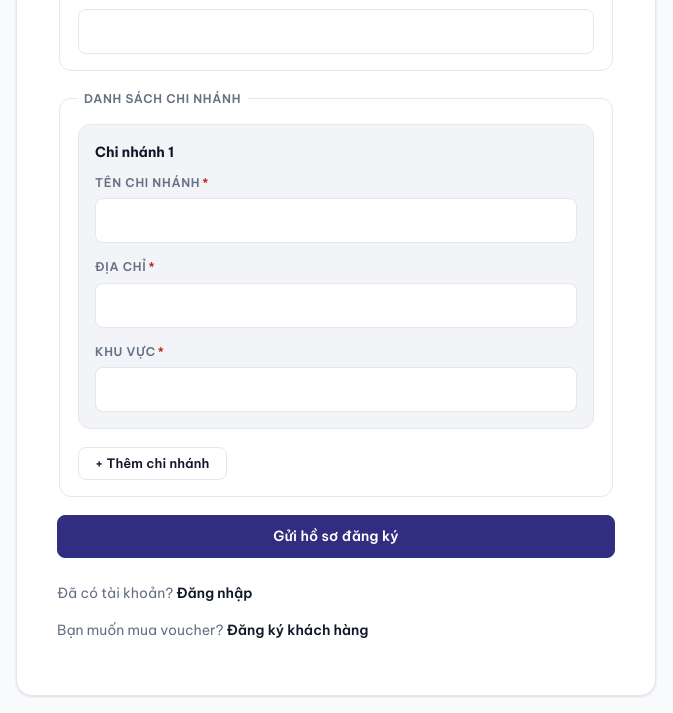
Scenario: RegisterPartnerPage › starts with one branch and can add and remove branches
(page scrolled)
Check: the text "Chi nhánh 1" is shown, box [95, 141, 174, 163]
Check: the text "chi nhánh 2" is not shown
Click the button "+ Thêm chi nhánh". click: (152,464)
box: [78, 447, 226, 480]
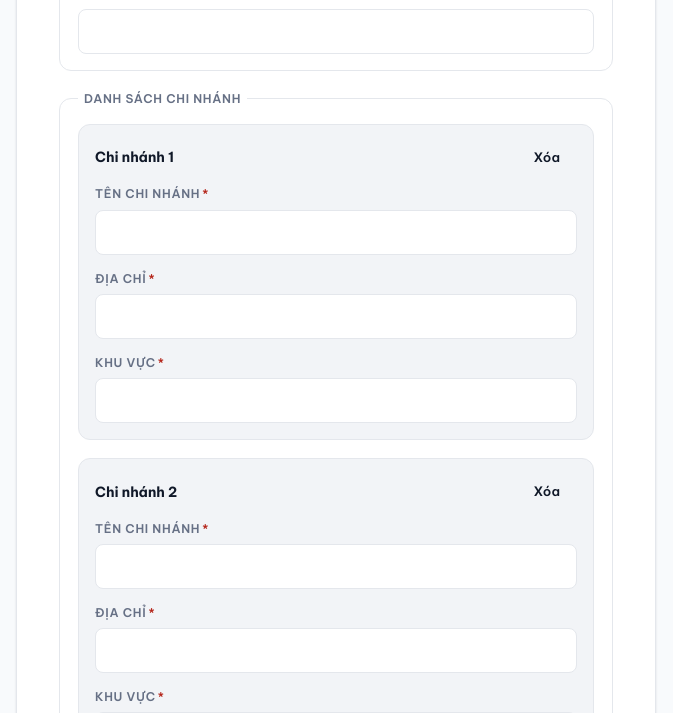
Check: the text "Chi nhánh 2" is shown, box [95, 481, 177, 503]
Click the button with aria-label "xóa chi nhánh 2". click: (547,492)
box: [516, 475, 577, 509]
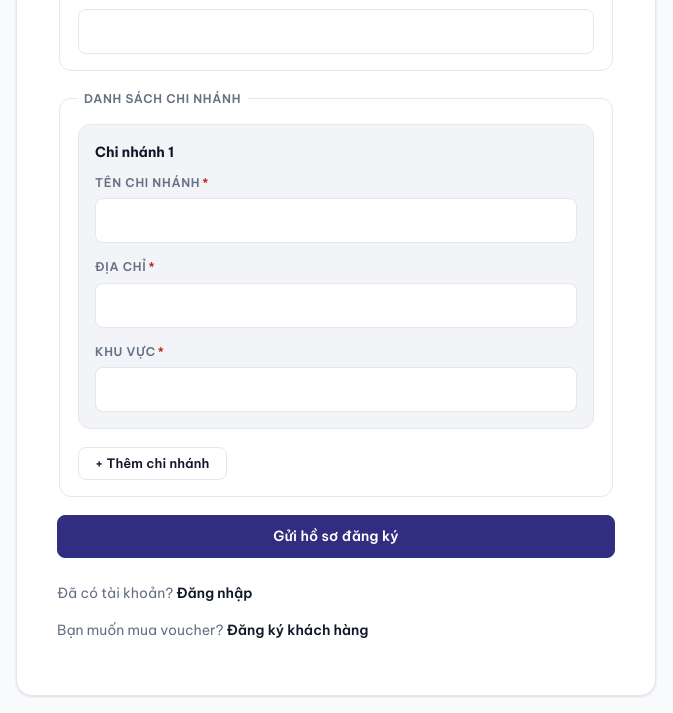
Check: the text "Chi nhánh 2" is gone
